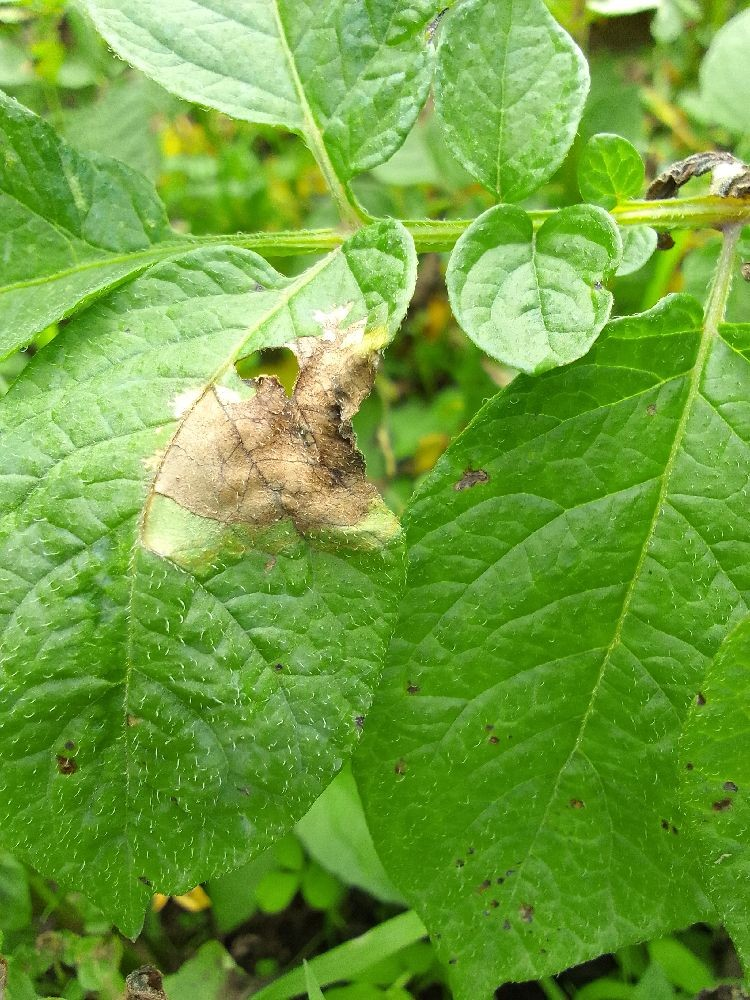late_blight: (181, 237, 466, 550), (76, 862, 348, 1000), (576, 5, 660, 93), (25, 896, 92, 985)
